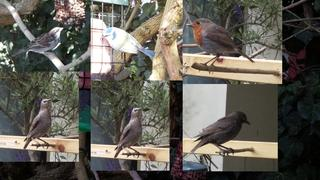blue tit: (101, 27, 156, 59)
robin: (186, 18, 256, 75)
sparrow: (12, 27, 64, 58)
starling: (190, 111, 251, 157), (23, 98, 52, 150), (114, 107, 143, 159)
